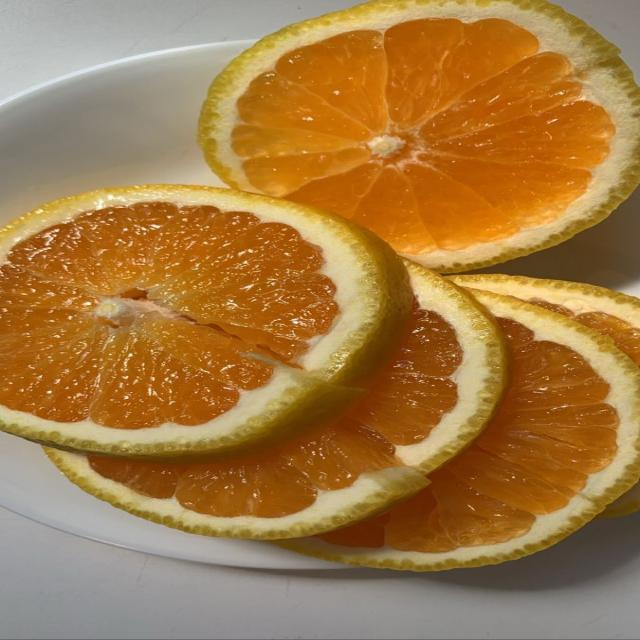orange: (48, 265, 504, 538), (200, 0, 639, 271), (0, 186, 412, 458), (283, 290, 639, 570), (455, 275, 639, 365)
